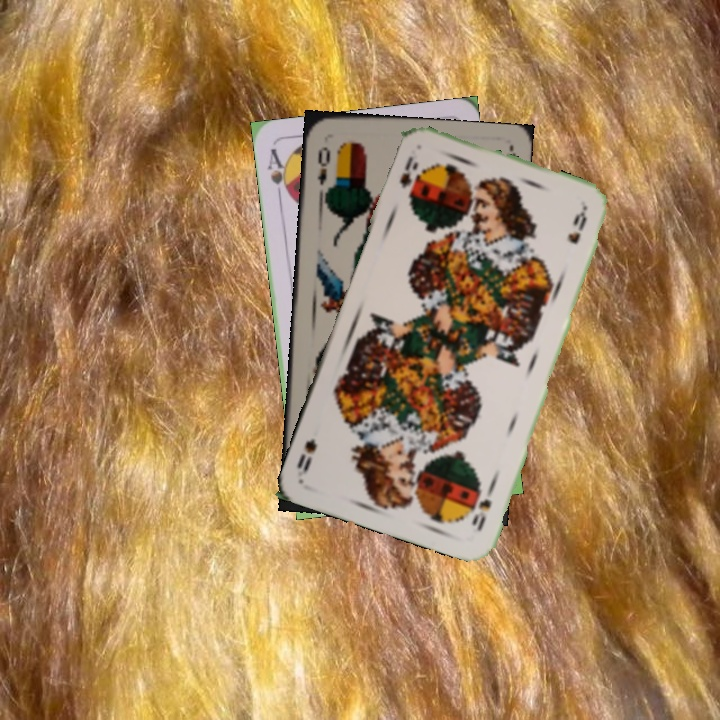EO: (314, 143, 333, 188)
SA: (263, 144, 293, 203)
SO: (467, 479, 498, 534), (395, 152, 421, 191)
